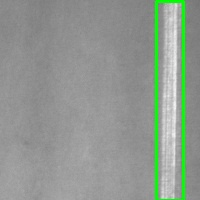scratches: (156, 1, 183, 200)
